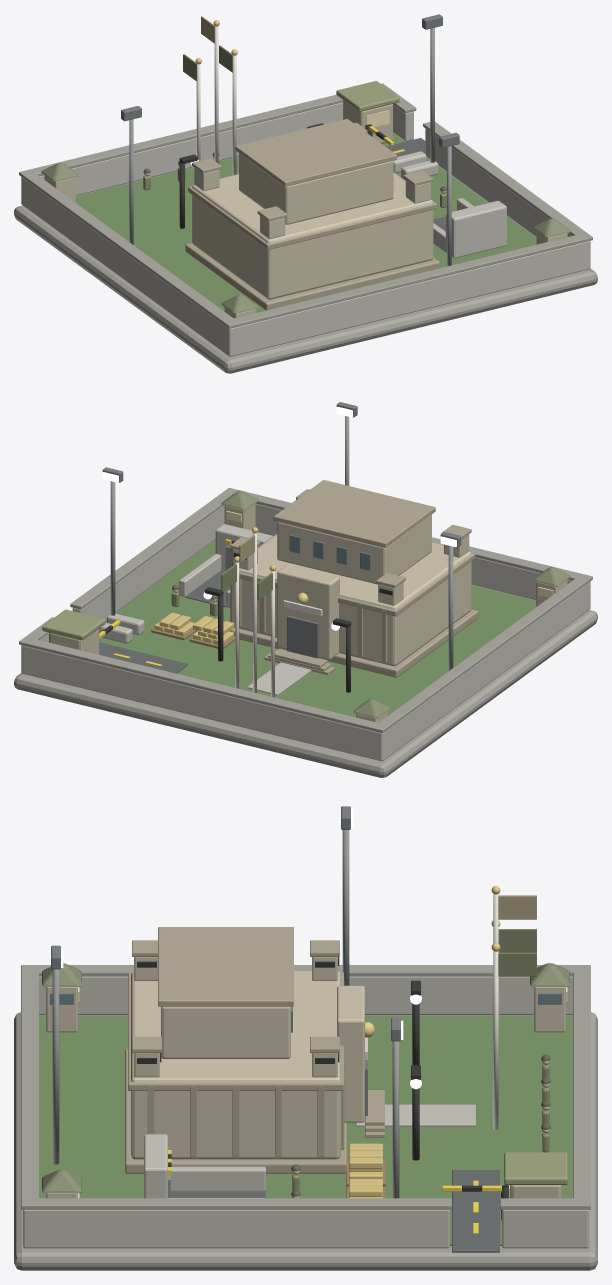
Rendered from goldvault_10.glb.
The picture shows the model from 3 angles, top to bottom: view 1: azimuth 30°, elevation 25°; view 2: azimuth 150°, elevation 25°; view 3: azimuth 270°, elevation 25°; orthographic projection. The views are drawn at different scales.
Parts seen in each view (by area): view 1: Cube.016, Cube.001, Cube, Cube.099, Cube.037, Cube.097, Cube.036, Cube.101, Cube.100, Cube.102, Cube.015, Cube.105 (+13 smaller); view 2: Cube.001, Cube.016, Cube, Cube.097, Cube.037, Cube.101, Cube.036, Cube.030, Cube.105, Cube.098, Cube.102, Cube.099 (+17 smaller); view 3: Cube.001, Cube.016, Cube, Cube.105, Cube.037, Cube.101, Cube.036, Cube.106, Cube.100, Cube.098, Cube.002, Cube.030 (+24 smaller).
Boxes of the visible parts, x1,y1,x2,y2 form: Cube.016: (192, 172, 433, 299); Cube.001: (75, 133, 536, 312); Cube: (14, 132, 597, 373); Cube.099: (226, 240, 590, 356); Cube.037: (235, 119, 397, 186); Cube.097: (21, 102, 342, 206); Cube.036: (239, 153, 393, 224); Cube.101: (24, 179, 226, 354); Cube.100: (223, 232, 592, 328); Cube.102: (21, 171, 234, 326); Cube.015: (185, 243, 439, 310); Cube.105: (425, 128, 571, 236); Cube.001: (99, 540, 536, 717); Cube.016: (230, 534, 471, 666); Cube: (14, 539, 597, 777); Cube.097: (21, 645, 386, 761); Cube.037: (273, 480, 435, 547); Cube.101: (385, 583, 587, 758); Cube.036: (277, 514, 431, 584); Cube.030: (277, 565, 339, 659); Cube.105: (72, 505, 224, 619); Cube.098: (19, 637, 389, 732); Cube.102: (376, 576, 590, 730); Cube.099: (255, 503, 590, 610); Cube.001: (39, 1015, 572, 1245); Cube.016: (131, 971, 340, 1159); Cube: (14, 1012, 597, 1270); Cube.105: (32, 1209, 449, 1248); Cube.037: (158, 927, 293, 1006); Cube.101: (39, 976, 572, 1014); Cube.036: (161, 1006, 290, 1058); Cube.106: (29, 1198, 451, 1209); Cube.100: (21, 965, 38, 1209); Cube.098: (573, 965, 590, 1209); Cube.002: (452, 1170, 499, 1252); Cube.030: (337, 985, 364, 1122).
Size of the model in its own units: 2.92 by 1.39 by 2.92.
